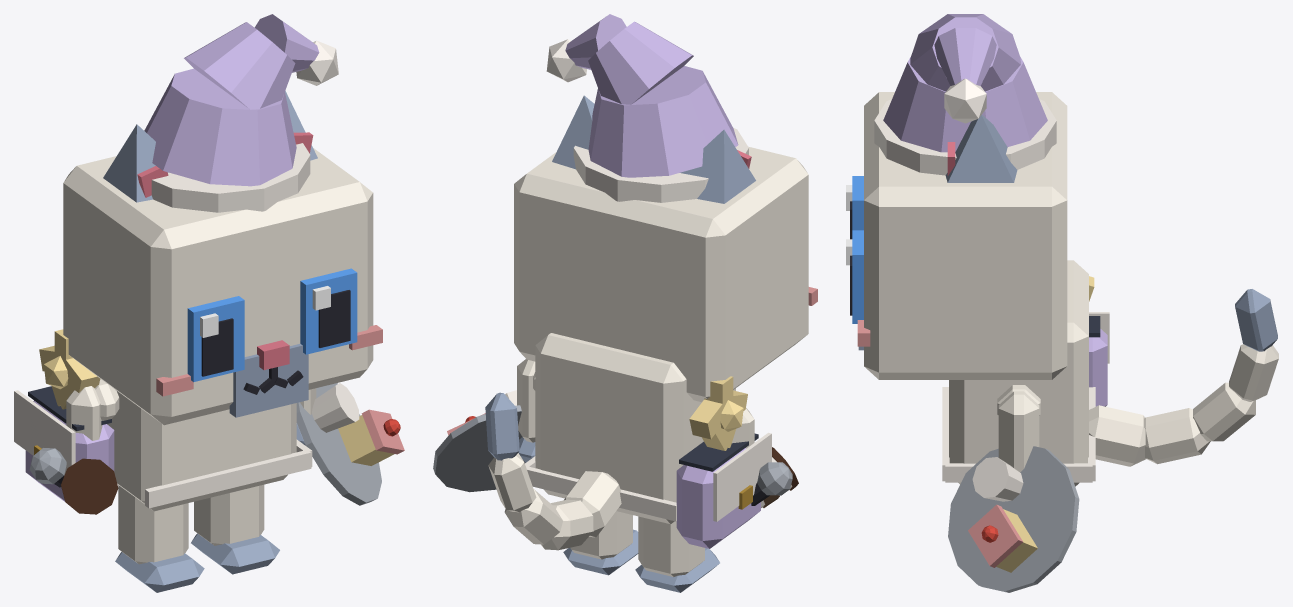
The model's file is CatCafe_Cat_Ragdoll_Work.glb.
3 views of the same model, side by side, from view 1: azimuth 30°, elevation 25°; view 2: azimuth 150°, elevation 25°; view 3: azimuth 270°, elevation 25° (orthographic). The views are drawn at different scales.
Parts seen in each view (by area): view 1: CatCafe_Cat_Ragdoll_Work_Head, CatCafe_Cat_Ragdoll_Work_Prop, CatCafe_Cat_Ragdoll_Work_Body, CatCafe_Cat_Ragdoll_Work_Held_Waiter, CatCafe_Cat_Ragdoll_Work_LegB2, CatCafe_Cat_Ragdoll_Work_LegB1, CatCafe_Cat_Ragdoll_Work_Eye2, CatCafe_Cat_Ragdoll_Work_Eye1, CatCafe_Cat_Ragdoll_Work_EarR, CatCafe_Cat_Ragdoll_Work_Held_Barista, CatCafe_Cat_Ragdoll_Work_LegF2, CatCafe_Cat_Ragdoll_Work_Held_Entertainer (+1 smaller); view 2: CatCafe_Cat_Ragdoll_Work_Head, CatCafe_Cat_Ragdoll_Work_Body, CatCafe_Cat_Ragdoll_Work_Prop, CatCafe_Cat_Ragdoll_Work_Tail, CatCafe_Cat_Ragdoll_Work_LegB2, CatCafe_Cat_Ragdoll_Work_Held_Waiter, CatCafe_Cat_Ragdoll_Work_EarR, CatCafe_Cat_Ragdoll_Work_LegB1, CatCafe_Cat_Ragdoll_Work_LegF1, CatCafe_Cat_Ragdoll_Work_EarL, CatCafe_Cat_Ragdoll_Work_Held_Entertainer, CatCafe_Cat_Ragdoll_Work_LegF2; view 3: CatCafe_Cat_Ragdoll_Work_Head, CatCafe_Cat_Ragdoll_Work_Prop, CatCafe_Cat_Ragdoll_Work_Body, CatCafe_Cat_Ragdoll_Work_Held_Waiter, CatCafe_Cat_Ragdoll_Work_Tail, CatCafe_Cat_Ragdoll_Work_EarL, CatCafe_Cat_Ragdoll_Work_LegF1, CatCafe_Cat_Ragdoll_Work_Eye1, CatCafe_Cat_Ragdoll_Work_Eye2.
Part boxes in pixels (bbox=[...]): CatCafe_Cat_Ragdoll_Work_Head: bbox=[63, 148, 382, 425]; CatCafe_Cat_Ragdoll_Work_Prop: bbox=[144, 14, 338, 212]; CatCafe_Cat_Ragdoll_Work_Body: bbox=[14, 329, 312, 511]; CatCafe_Cat_Ragdoll_Work_Held_Waiter: bbox=[296, 383, 404, 505]; CatCafe_Cat_Ragdoll_Work_LegB2: bbox=[115, 485, 204, 592]; CatCafe_Cat_Ragdoll_Work_LegB1: bbox=[191, 484, 279, 574]; CatCafe_Cat_Ragdoll_Work_Eye2: bbox=[187, 296, 244, 382]; CatCafe_Cat_Ragdoll_Work_Eye1: bbox=[300, 268, 357, 354]; CatCafe_Cat_Ragdoll_Work_EarR: bbox=[103, 124, 168, 202]; CatCafe_Cat_Ragdoll_Work_Held_Barista: bbox=[61, 458, 118, 514]; CatCafe_Cat_Ragdoll_Work_LegF2: bbox=[66, 386, 102, 440]; CatCafe_Cat_Ragdoll_Work_Held_Entertainer: bbox=[29, 448, 66, 487]; CatCafe_Cat_Ragdoll_Work_Head: bbox=[514, 146, 817, 402]; CatCafe_Cat_Ragdoll_Work_Body: bbox=[525, 333, 771, 548]; CatCafe_Cat_Ragdoll_Work_Prop: bbox=[546, 14, 748, 202]; CatCafe_Cat_Ragdoll_Work_Tail: bbox=[485, 392, 621, 550]; CatCafe_Cat_Ragdoll_Work_LegB2: bbox=[635, 516, 719, 592]; CatCafe_Cat_Ragdoll_Work_Held_Waiter: bbox=[433, 390, 525, 492]; CatCafe_Cat_Ragdoll_Work_EarR: bbox=[680, 129, 755, 203]; CatCafe_Cat_Ragdoll_Work_LegB1: bbox=[563, 511, 638, 575]; CatCafe_Cat_Ragdoll_Work_LegF1: bbox=[517, 359, 535, 462]; CatCafe_Cat_Ragdoll_Work_EarL: bbox=[552, 95, 594, 169]; CatCafe_Cat_Ragdoll_Work_Held_Entertainer: bbox=[751, 462, 792, 505]; CatCafe_Cat_Ragdoll_Work_LegF2: bbox=[732, 408, 754, 448]; CatCafe_Cat_Ragdoll_Work_Head: bbox=[857, 92, 1067, 379]; CatCafe_Cat_Ragdoll_Work_Prop: bbox=[874, 14, 1056, 175]; CatCafe_Cat_Ragdoll_Work_Body: bbox=[942, 260, 1109, 486]; CatCafe_Cat_Ragdoll_Work_Held_Waiter: bbox=[948, 446, 1079, 592]; CatCafe_Cat_Ragdoll_Work_Tail: bbox=[1089, 289, 1278, 466]; CatCafe_Cat_Ragdoll_Work_EarL: bbox=[945, 115, 1017, 182]; CatCafe_Cat_Ragdoll_Work_LegF1: bbox=[998, 391, 1039, 472]; CatCafe_Cat_Ragdoll_Work_Eye1: bbox=[846, 230, 863, 323]; CatCafe_Cat_Ragdoll_Work_Eye2: bbox=[846, 176, 863, 239].
Bounding box in the file's own units: 1.84 × 2.7 × 1.94.
Materials: 1 (1 with a texture image).
